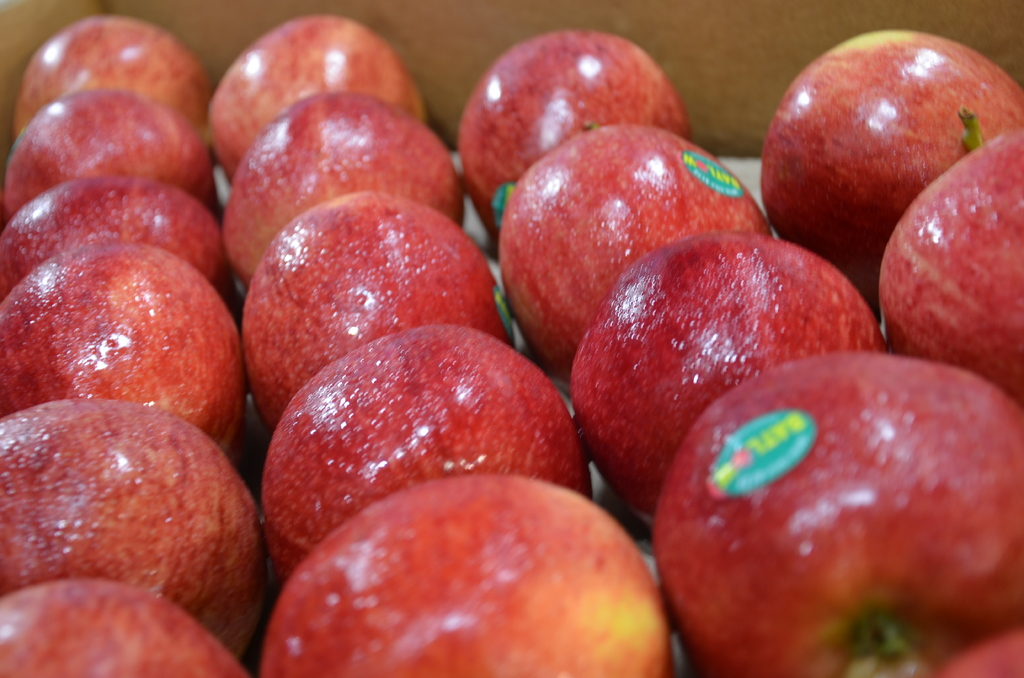Apple: (0, 13, 1023, 677), (742, 13, 995, 291)
